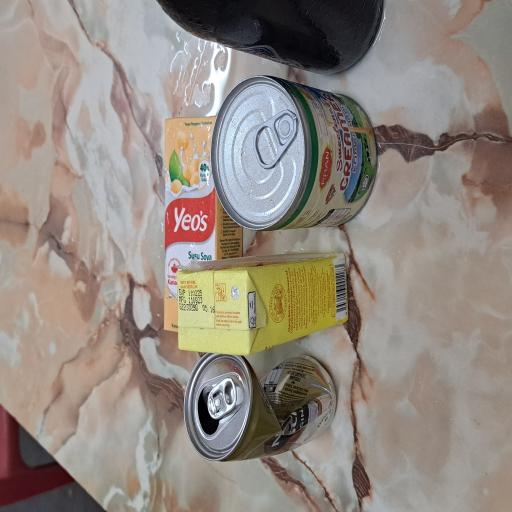can: (212, 280, 328, 502), (39, 244, 119, 448)
drink carton: (135, 216, 297, 323), (121, 237, 195, 461)
glass bottle: (329, 206, 383, 512)
pop tab: (258, 338, 301, 400), (69, 277, 101, 316)
